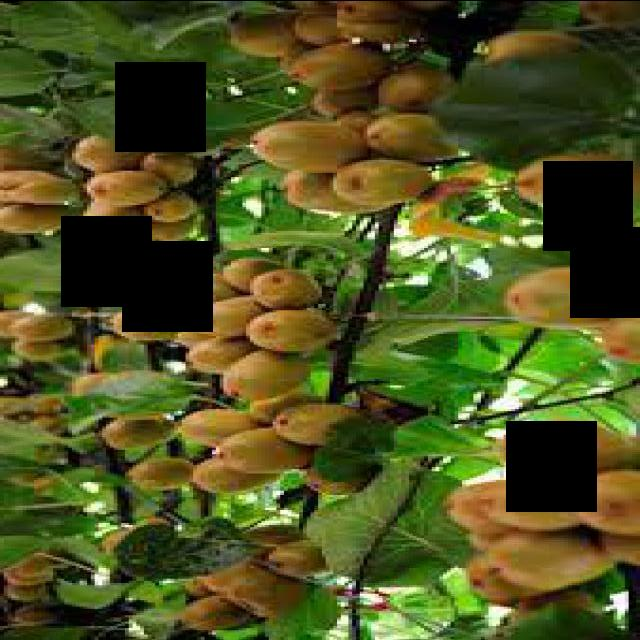kiwi: (508, 263, 640, 326), (494, 525, 615, 592), (285, 156, 406, 212), (516, 151, 640, 205), (527, 420, 640, 478), (475, 547, 585, 603), (486, 29, 604, 81), (490, 476, 600, 530), (452, 478, 562, 530), (259, 121, 365, 171), (296, 40, 395, 90), (221, 427, 331, 472), (225, 347, 320, 399), (369, 113, 475, 158), (247, 306, 353, 351), (573, 469, 640, 538), (277, 401, 376, 446), (335, 158, 441, 199), (316, 74, 414, 117), (232, 12, 323, 57), (232, 568, 316, 613), (111, 302, 213, 339), (85, 190, 157, 240), (198, 450, 285, 491), (191, 334, 282, 372), (380, 66, 460, 109), (202, 295, 289, 334), (77, 132, 172, 167), (308, 454, 391, 493), (293, 10, 384, 45), (270, 538, 350, 577), (183, 407, 266, 444), (92, 168, 176, 203), (338, 1, 414, 38), (255, 267, 327, 306), (225, 257, 297, 296), (183, 272, 270, 304), (183, 594, 258, 629), (107, 414, 187, 446), (9, 199, 85, 231), (5, 168, 70, 203), (603, 304, 640, 360), (130, 457, 198, 487), (599, 517, 640, 564), (149, 205, 202, 240), (141, 150, 198, 182), (12, 313, 77, 341), (145, 192, 198, 222), (9, 553, 58, 581), (588, 1, 640, 25), (20, 332, 66, 358), (9, 574, 51, 598), (622, 248, 640, 293)
